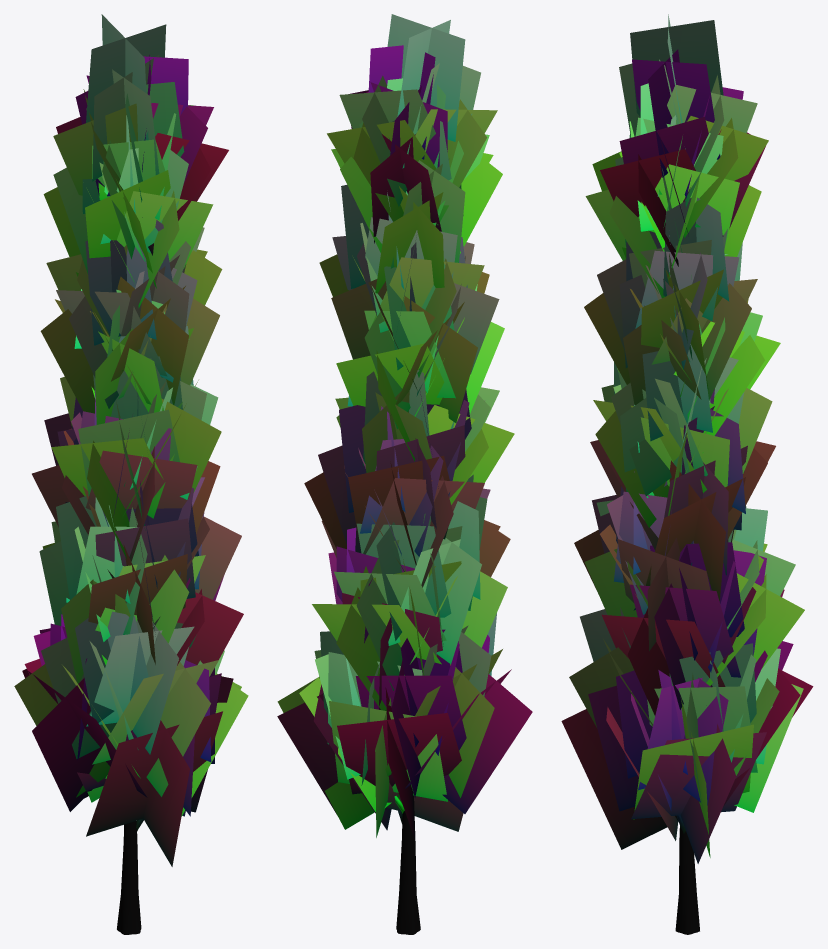
Rendered from Tree_6_3.fbx.
3 renders of one model, left to right at view 1: azimuth 30°, elevation 25°; view 2: azimuth 150°, elevation 25°; view 3: azimuth 270°, elevation 25°, orthographic.
Parts seen in each view (by area): view 1: _3; view 2: _3; view 3: _3.
Boxes of the visible parts, x1,y1,x2,y2 form: _3: (14, 14, 248, 934); _3: (277, 14, 532, 934); _3: (561, 14, 813, 934).
Size of the model in its own units: 528 by 1966 by 498.
